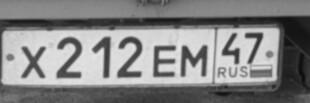license-plateSW: (0, 26, 281, 89)
